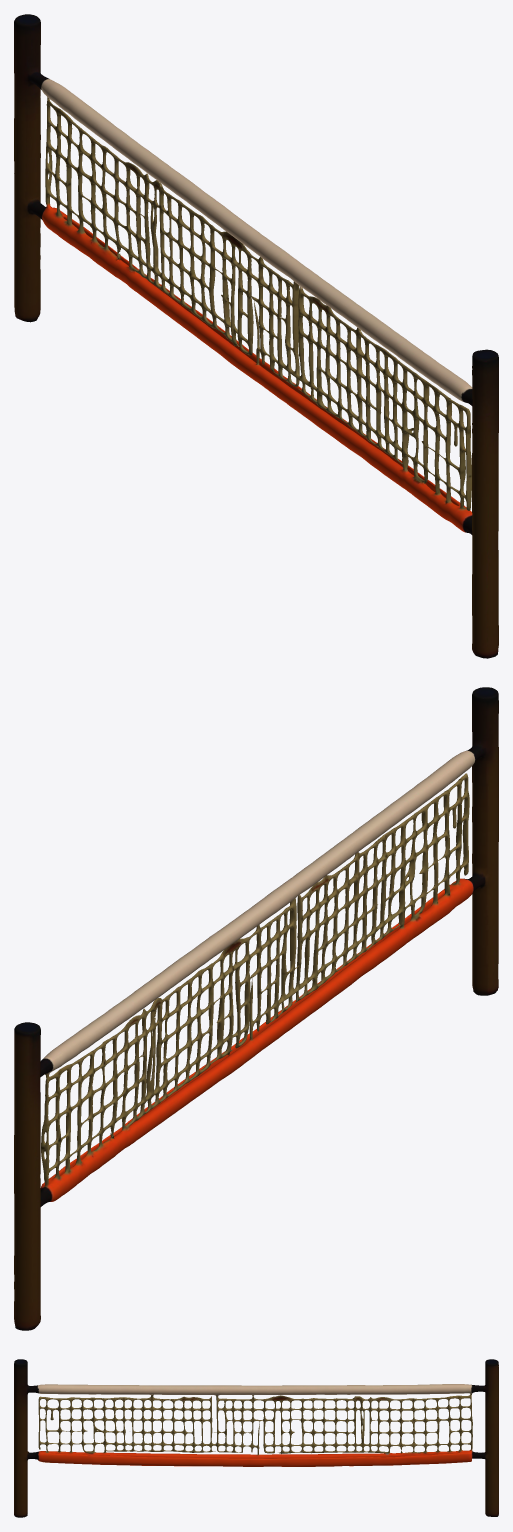
The model's file is volleyball_sand_court_environment_model_fbx.fbx.
3 views of the same model, one above another, from view 1: azimuth 30°, elevation 25°; view 2: azimuth 150°, elevation 25°; view 3: azimuth 270°, elevation 25° (orthographic). The views are drawn at different scales.
Parts seen in each view (by area): view 1: mesh_e1d9; view 2: mesh_e1d9; view 3: mesh_e1d9.
Boxes of the visible parts, bbox=[...] form: mesh_e1d9: bbox=[14, 14, 498, 658]; mesh_e1d9: bbox=[14, 687, 498, 1330]; mesh_e1d9: bbox=[14, 1359, 498, 1517].
Bounding box in the file's own units: 0.1163 × 1.2 × 3.43.
Materials: 1 (1 with a texture image).
